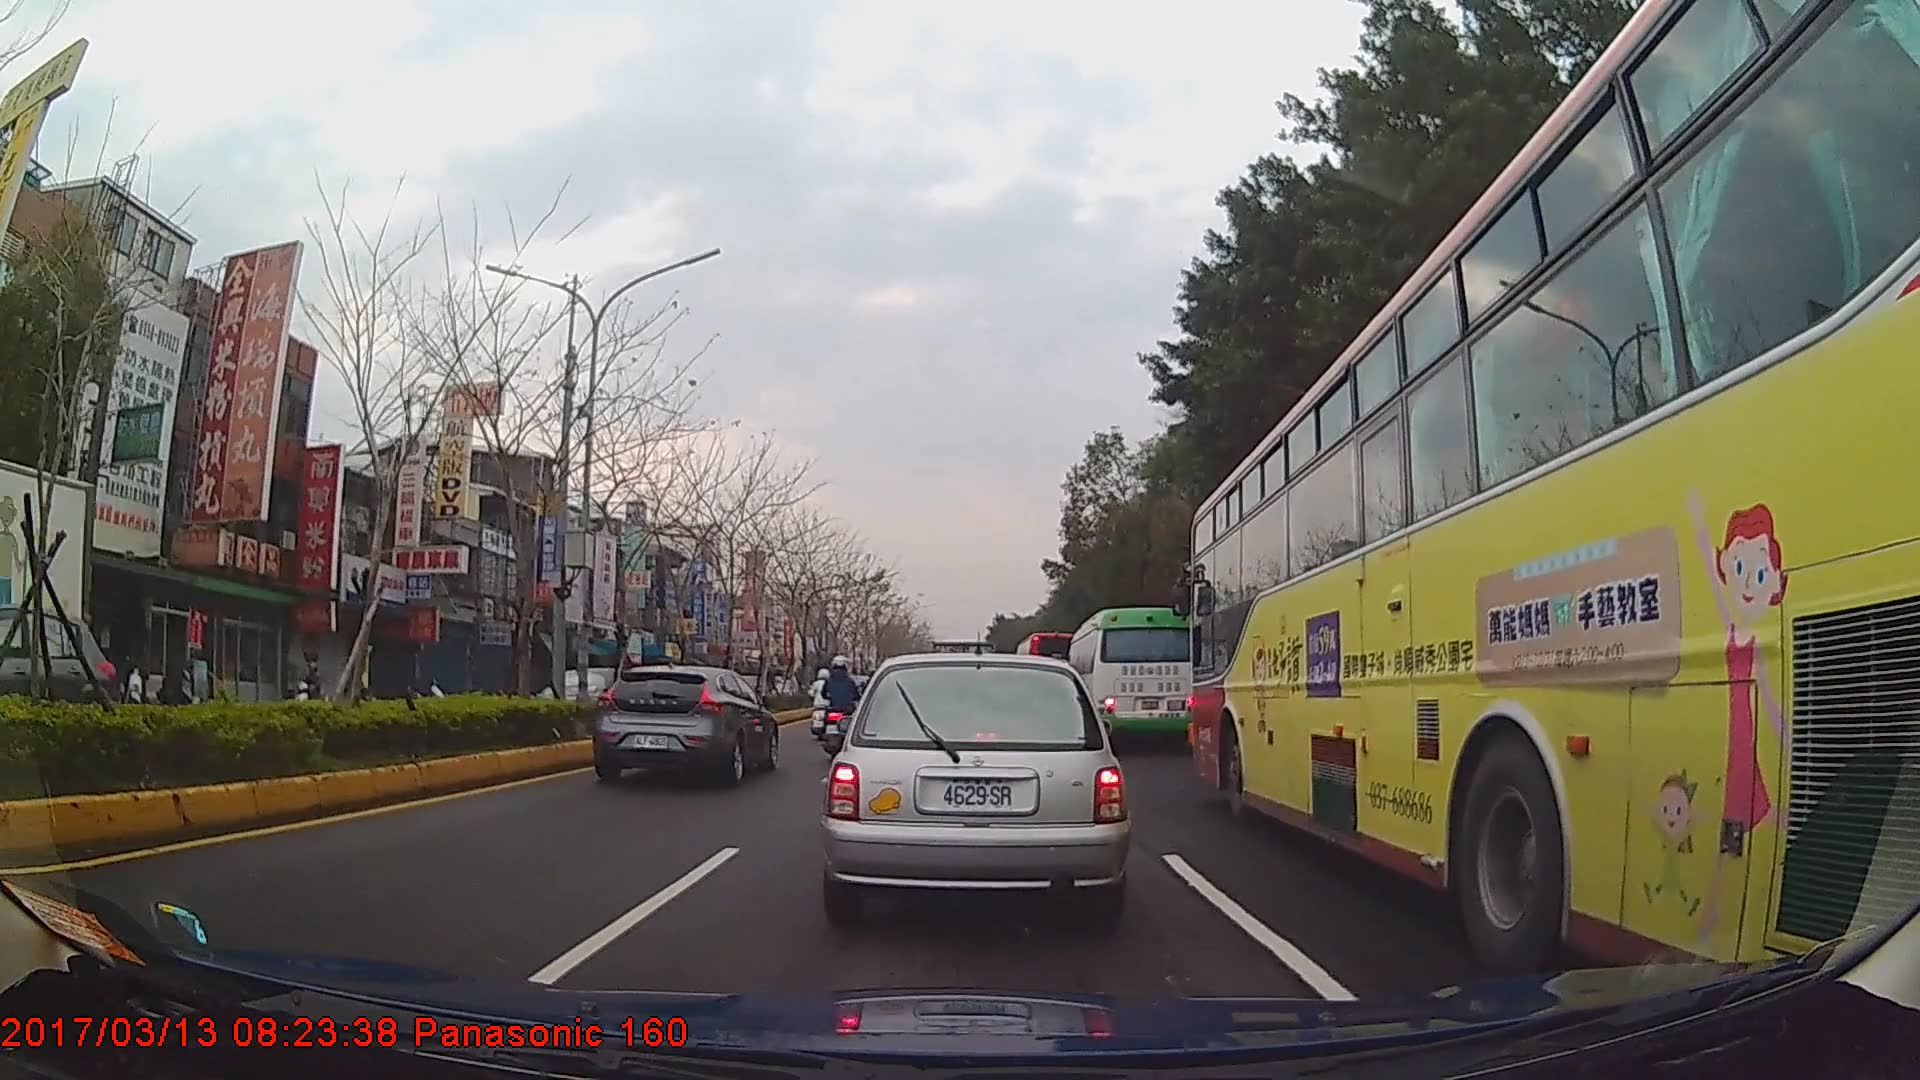rider: (820, 655, 863, 748), (297, 662, 324, 705)
vehicle: (1185, 0, 1920, 1025), (824, 648, 1130, 929), (592, 662, 780, 789), (1064, 606, 1197, 750), (0, 603, 121, 752), (1013, 629, 1083, 706)
